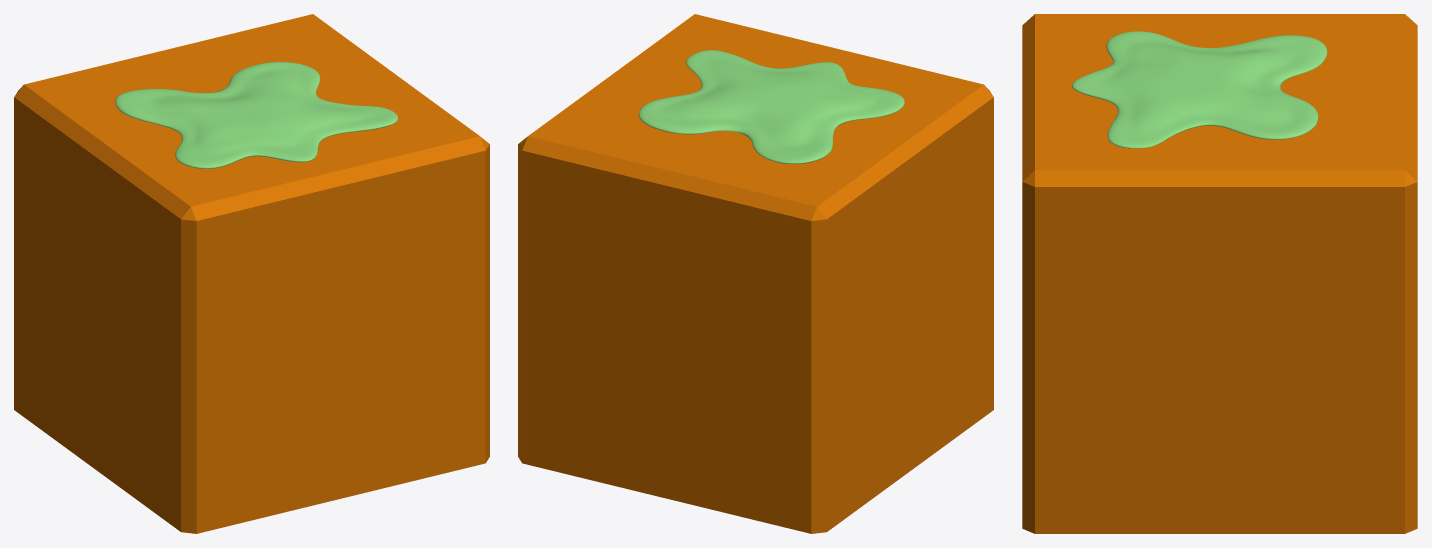
The model's file is Grass 02.FBX.
3 views of the same model, side by side, from view 1: azimuth 30°, elevation 25°; view 2: azimuth 150°, elevation 25°; view 3: azimuth 270°, elevation 25° (orthographic). The views are drawn at different scales.
Parts seen in each view (by area): view 1: Grass 01, abstract_stylized_splash_11_puddle_01_mesh; view 2: Grass 01, abstract_stylized_splash_11_puddle_01_mesh; view 3: Grass 01, abstract_stylized_splash_11_puddle_01_mesh.
Part boxes in pixels (x1,y1,x2,y2): Grass 01: (14,14,489,533); abstract_stylized_splash_11_puddle_01_mesh: (115,62,398,168); Grass 01: (518,14,993,533); abstract_stylized_splash_11_puddle_01_mesh: (638,50,904,164); Grass 01: (1022,14,1417,533); abstract_stylized_splash_11_puddle_01_mesh: (1072,31,1327,148).
Size of the model in its own units: 39.37 by 40.44 by 39.37.
